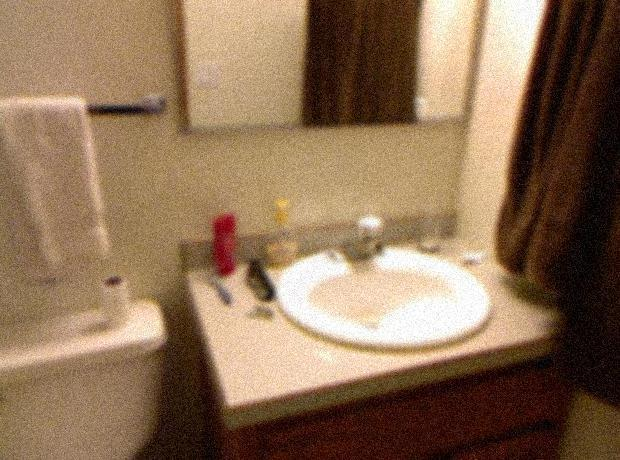Lavamanos: (277, 210, 502, 355)
Sanitario: (0, 298, 175, 457)
